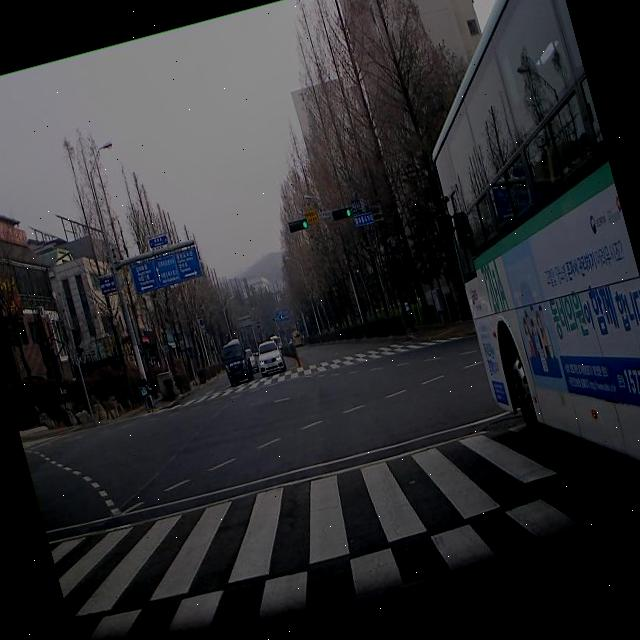crosswalk: (49, 421, 640, 640), (153, 339, 437, 413)
